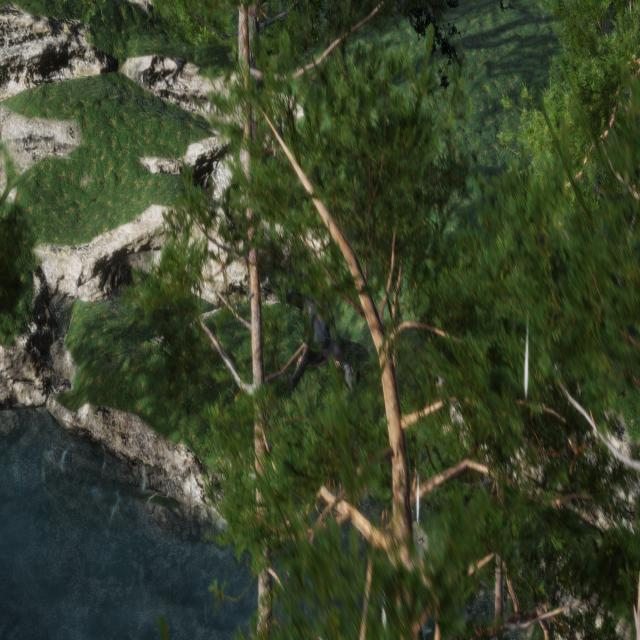Human: (280, 278, 360, 404)
